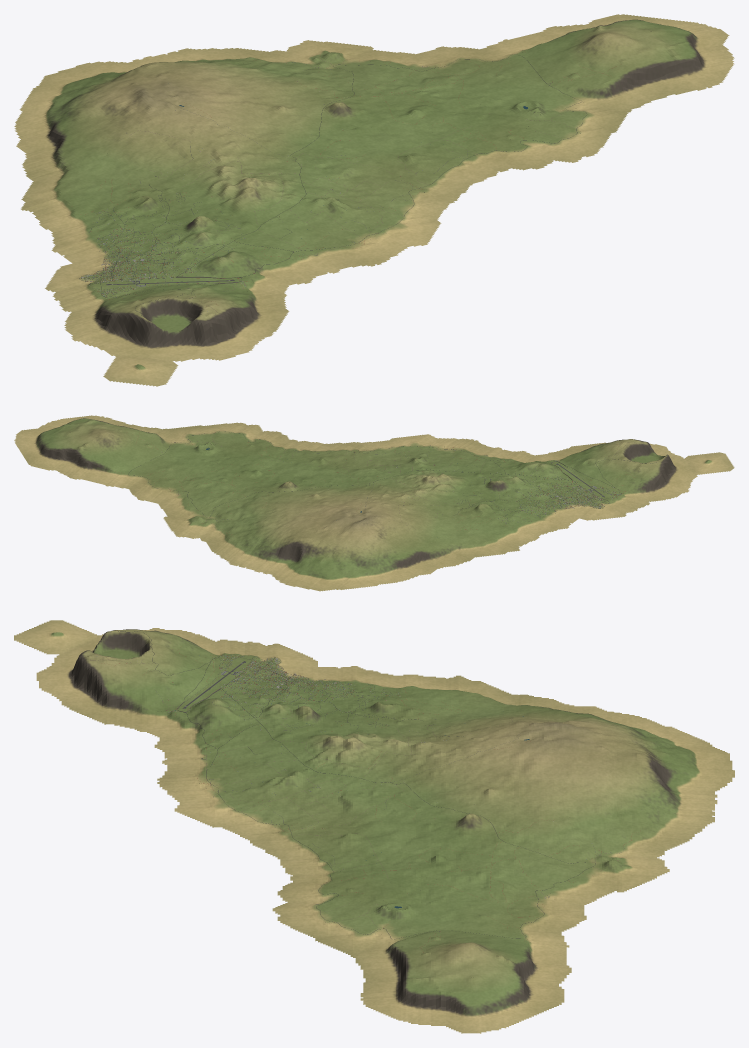
File: map.gltf
3 views of the same model, one above another, from view 1: azimuth 30°, elevation 25°; view 2: azimuth 150°, elevation 25°; view 3: azimuth 270°, elevation 25° (orthographic). The views are drawn at different scales.
Visible parts, largest first — view 1: Terrain, OSM_Roads, Airport_Buildings, OSM_Buildings; view 2: Terrain, OSM_Roads, Airport_Buildings; view 3: Terrain, OSM_Roads, Airport_Buildings, OSM_Buildings.
Boxes of the visible parts, x1,y1,x2,y2 form: Terrain: (14,14,734,386); OSM_Roads: (79,55,616,317); Airport_Buildings: (81,247,245,300); OSM_Buildings: (93,66,552,318); Terrain: (14,415,734,591); OSM_Roads: (128,431,656,532); Airport_Buildings: (523,460,630,508); Terrain: (14,620,734,1033); OSM_Roads: (90,631,631,952); Airport_Buildings: (168,649,280,716); OSM_Buildings: (96,630,592,904).
Bounding box in the file's own units: 24312 × 1077 × 17938.
29 materials, 14 textured.
